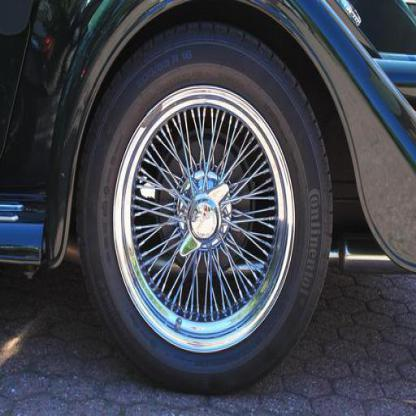Tire: (72, 17, 335, 396)
